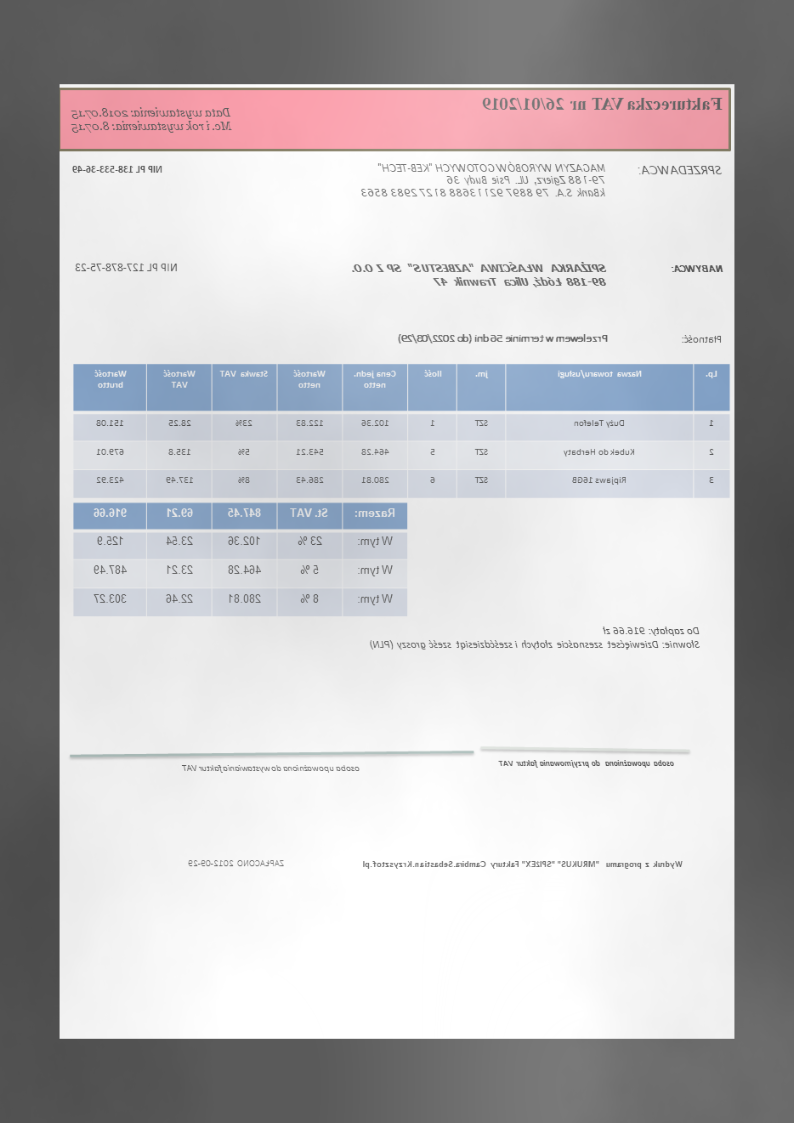Table: (71, 363, 732, 499), (72, 502, 408, 618)
TextBox: (360, 161, 609, 201), (368, 625, 702, 652), (349, 258, 609, 289), (360, 856, 685, 872), (70, 105, 234, 135), (480, 93, 724, 113), (398, 332, 610, 346), (180, 761, 364, 774), (496, 757, 677, 770), (76, 258, 182, 275), (638, 162, 725, 178), (187, 856, 286, 870), (71, 162, 166, 176), (672, 261, 726, 275), (679, 332, 724, 346)
